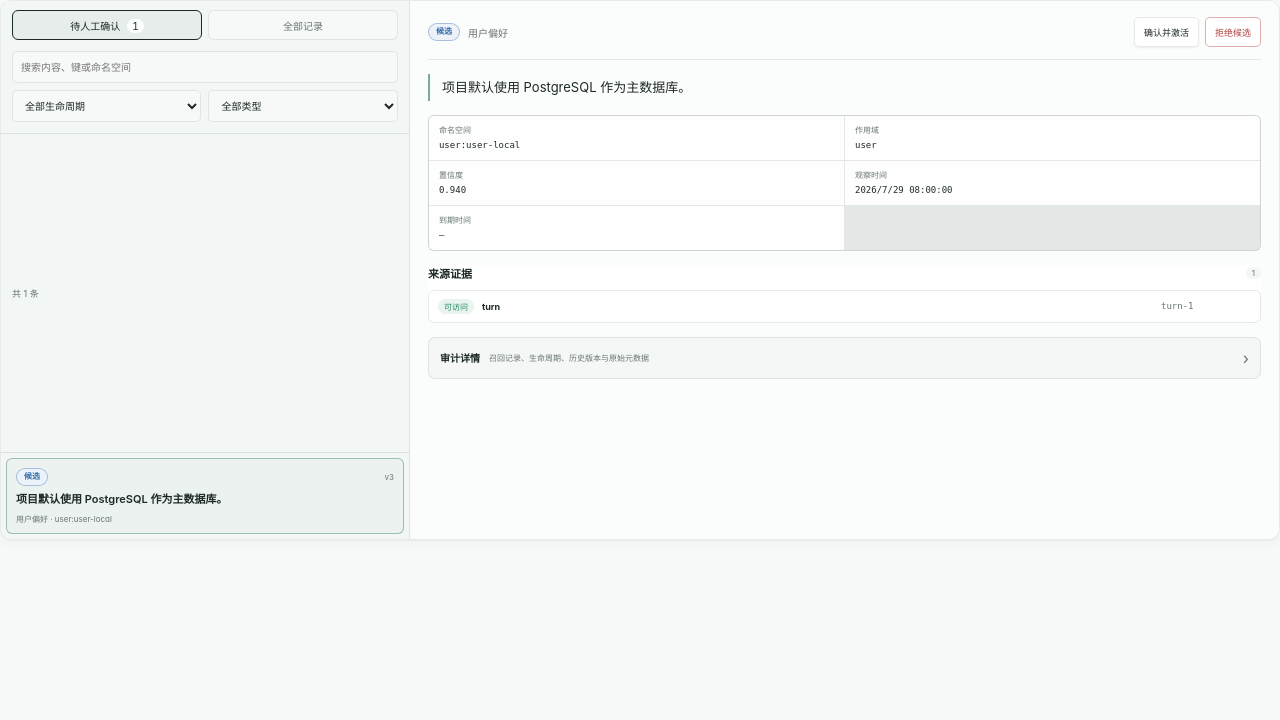
MemoryWorkbench › rejects a pending Memory without activating it
The image size is (1280, 720).
Expected: the element named "记忆详情" is shown, [410, 1, 1279, 407]
Click the button "拒绝候选" at (1233, 32), box [1205, 17, 1261, 47]
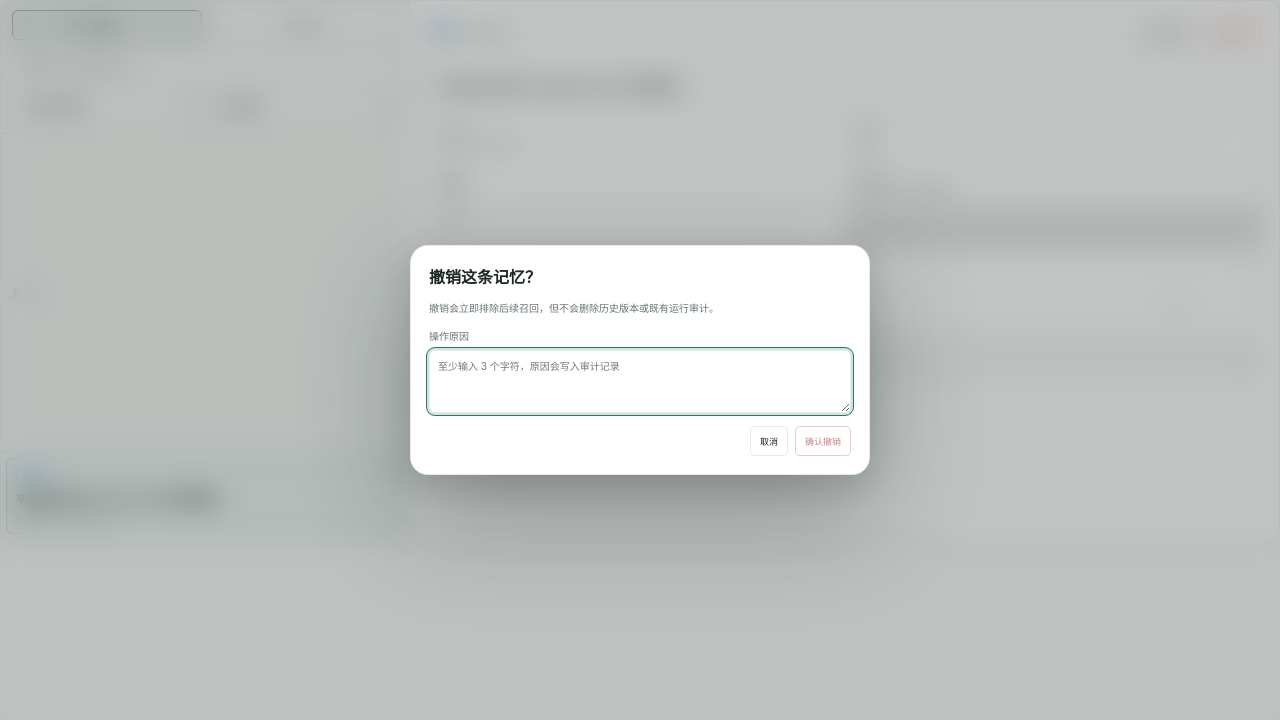
Type "来源表达不准确" into the text box with placeholder "至少输入 3 个字符，原因会写入审计记录" at (640, 382), box [429, 350, 851, 413]
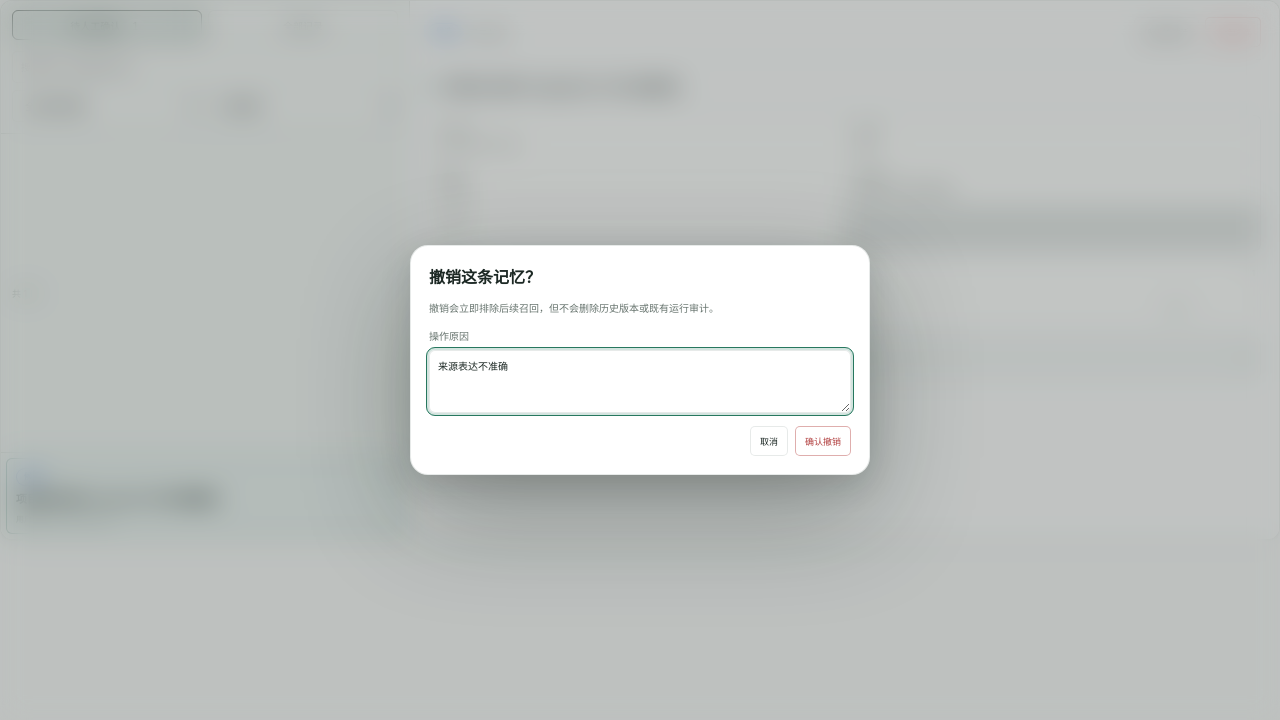
Click the button "确认撤销" at (823, 441), box [795, 426, 851, 456]
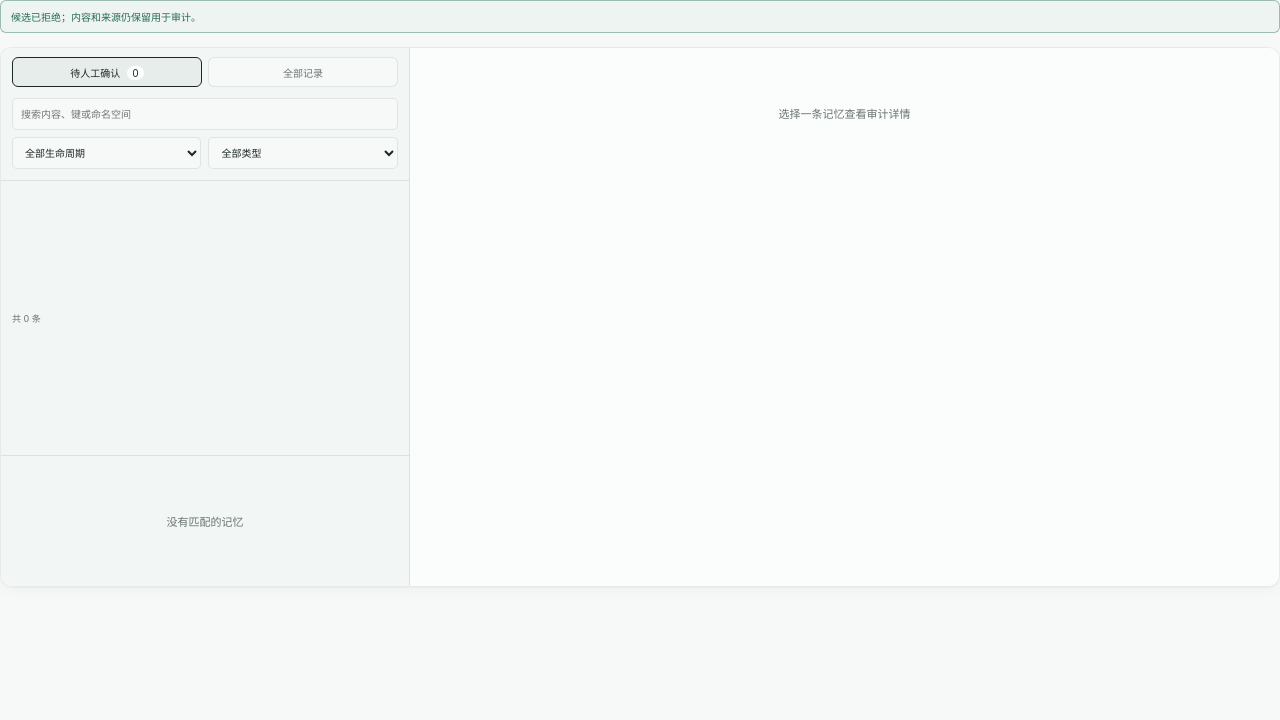
Now the text "候选已拒绝；内容和来源仍保留用于审计。" is shown, box [0, 0, 1279, 33]
